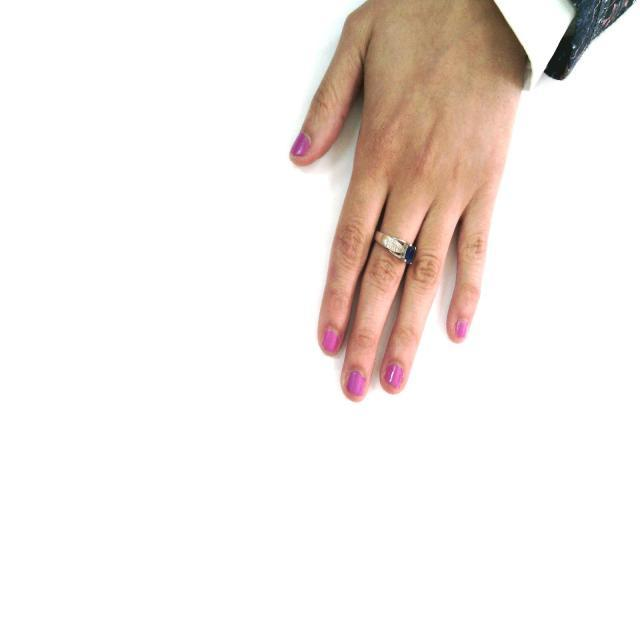Fingernail: (347, 370, 366, 398), (385, 363, 404, 390), (323, 329, 338, 354), (292, 134, 309, 155), (455, 320, 468, 339)
